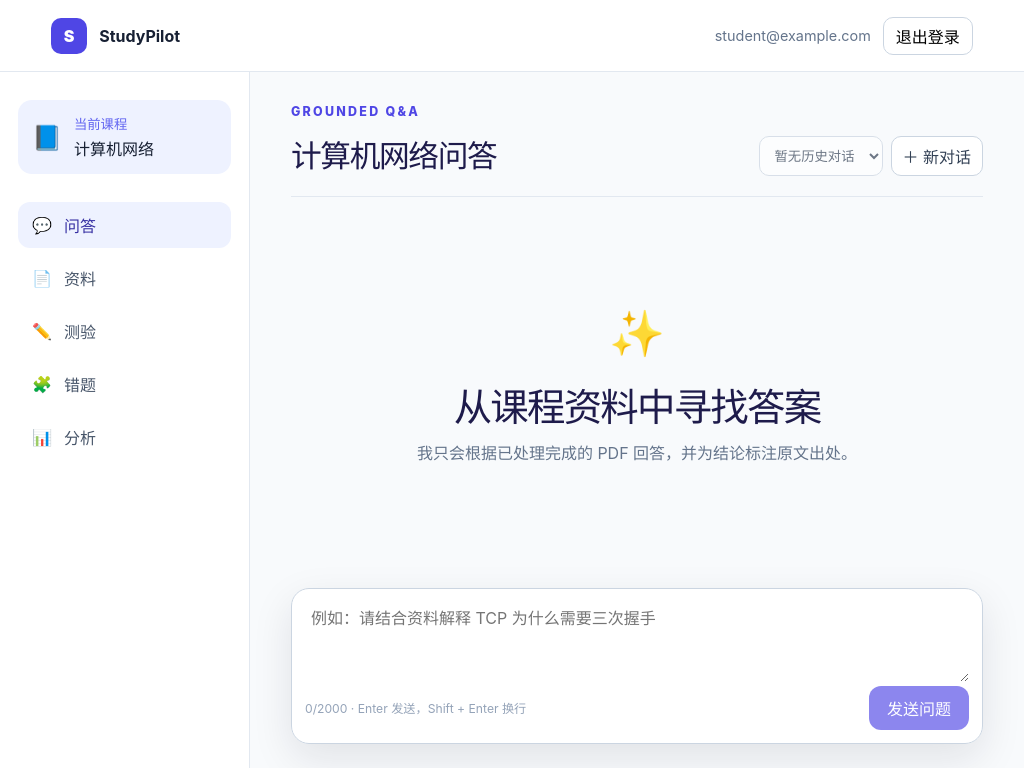
cited course chat › shows a dedicated daily quota message for 429 responses
The width and height of the screenshot is (1024, 768).
Type "继续提问" into the text box named "向课程资料提问" at (637, 642), box x1=305 y1=602 x2=969 y2=682
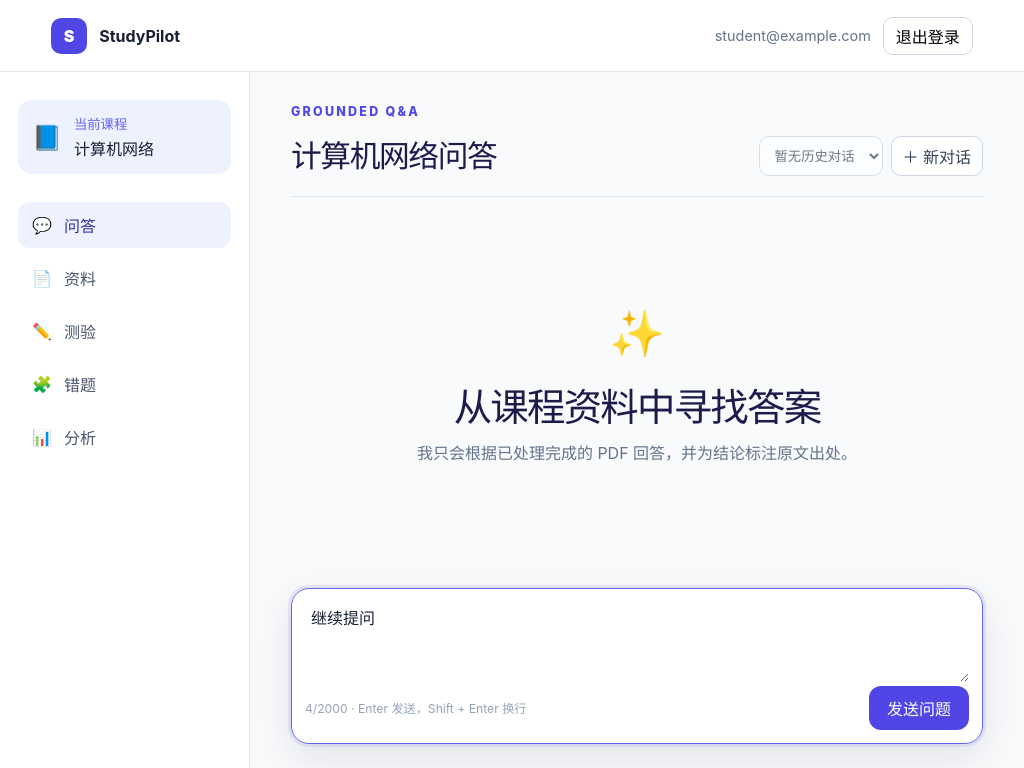
Click the button "发送问题" at (919, 708), box x1=869 y1=686 x2=969 y2=730
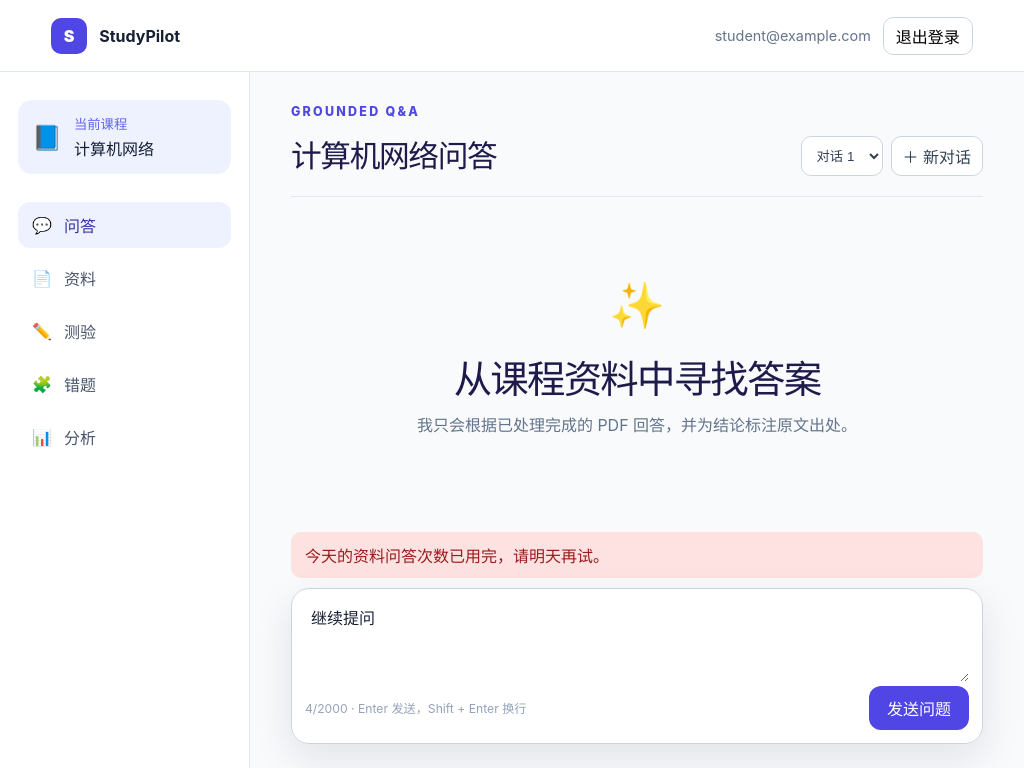
Expected: the message reads "今天的资料问答次数已用完，请明天再试。", x1=305 y1=546 x2=609 y2=566
